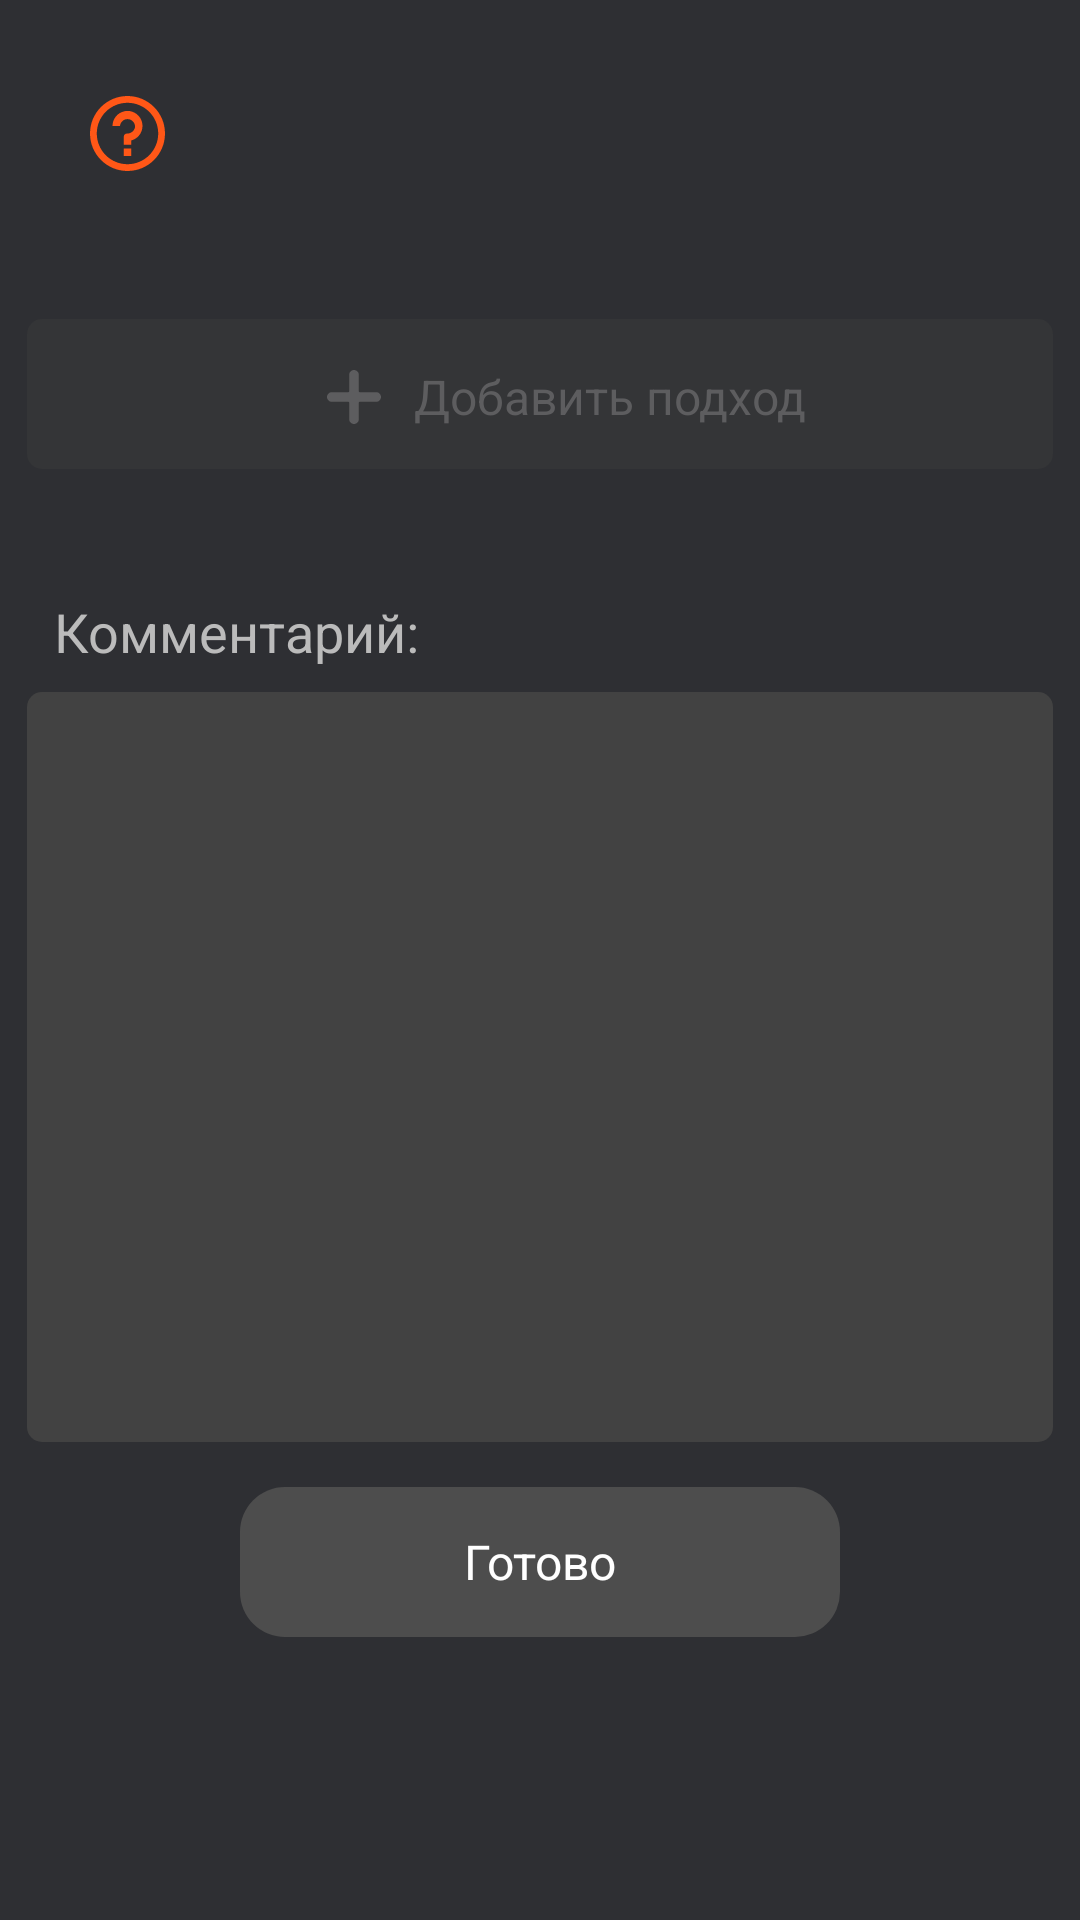

Screen size 1080×1920. Icon name, then its center in pixels as point (x, y):
add: point (354, 397)
question: point (127, 133)
